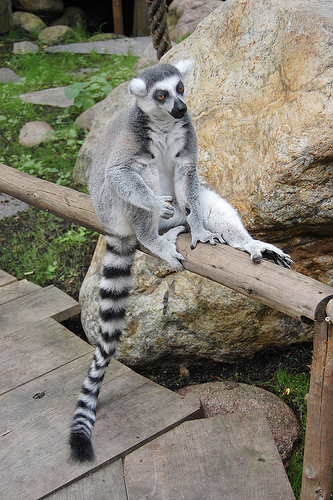cat: (68, 52, 296, 462)
